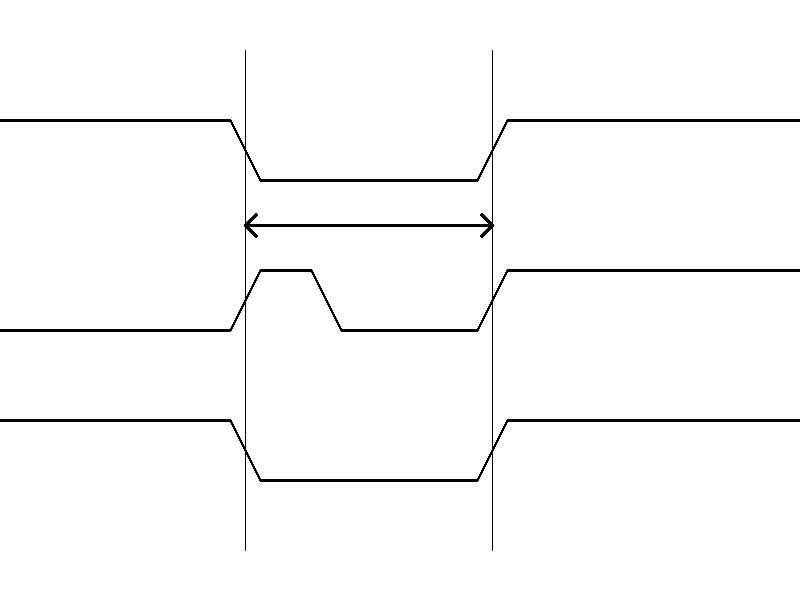double_arrow: (245, 210, 492, 240)
